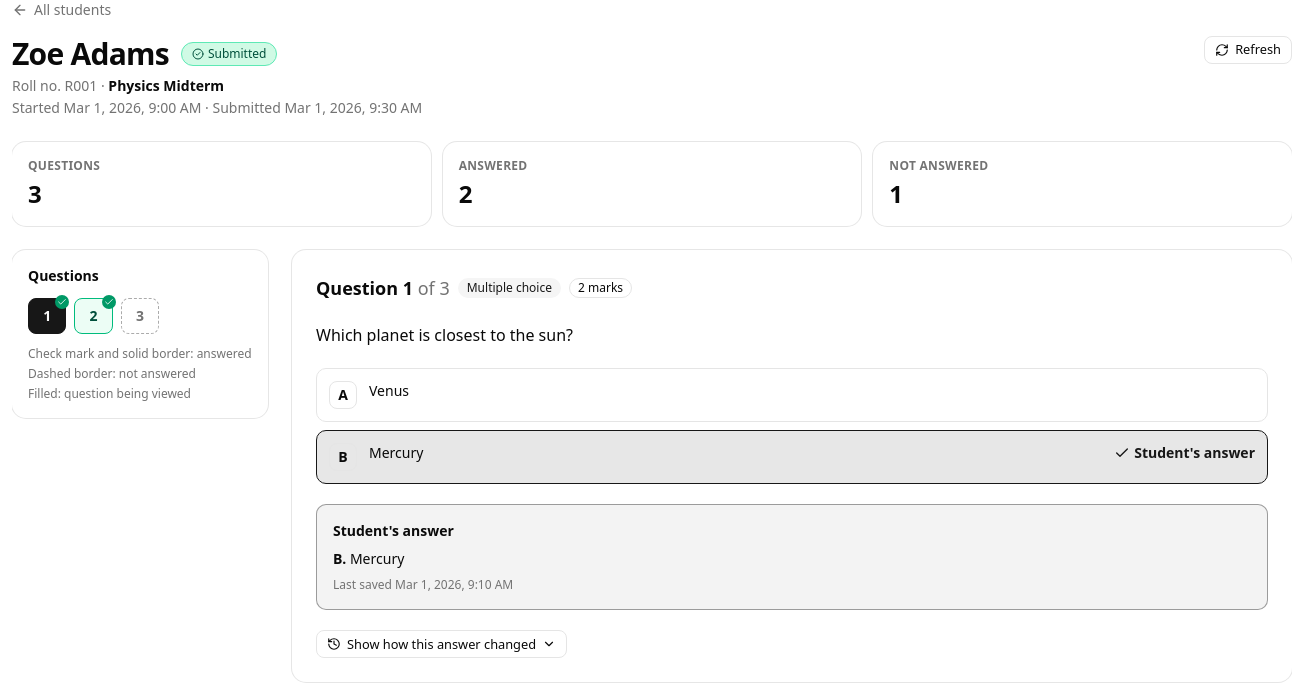
Scenario: StudentResponseReview with recordings › shows the recording next to the answer it supports
Check: the text "Which planet is closest to the sun?" is shown, box [316,324,573,346]
Click the button named "Question 2" at {"x": 94, "y": 316}, box [74,298,113,334]
(page scrolled)
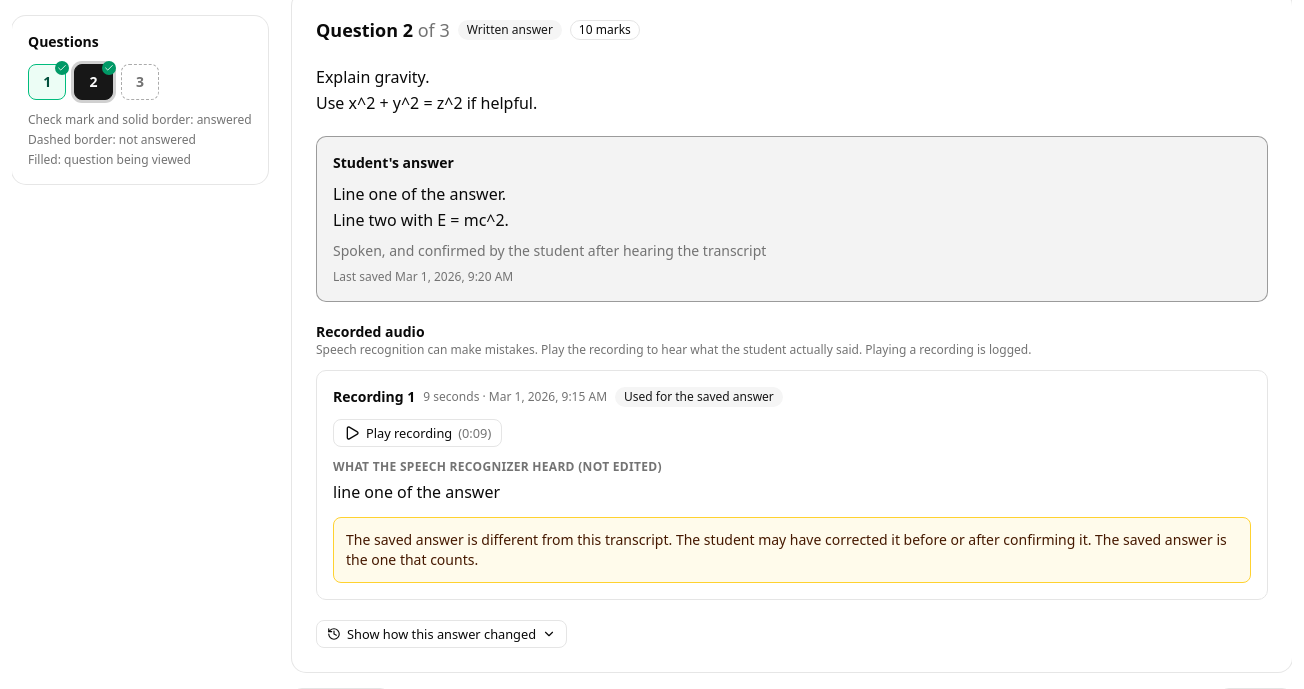
Check: the heading "Recorded audio" is shown, box [316,322,424,341]
Check: the text with test id "recording-transcript" reads "line one of the answer", box [333,481,500,503]
